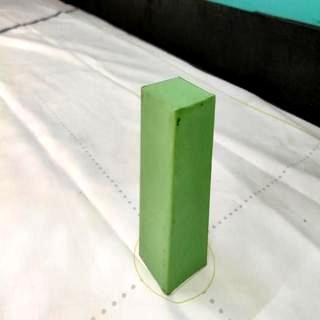greenbox: (140, 75, 217, 298)
